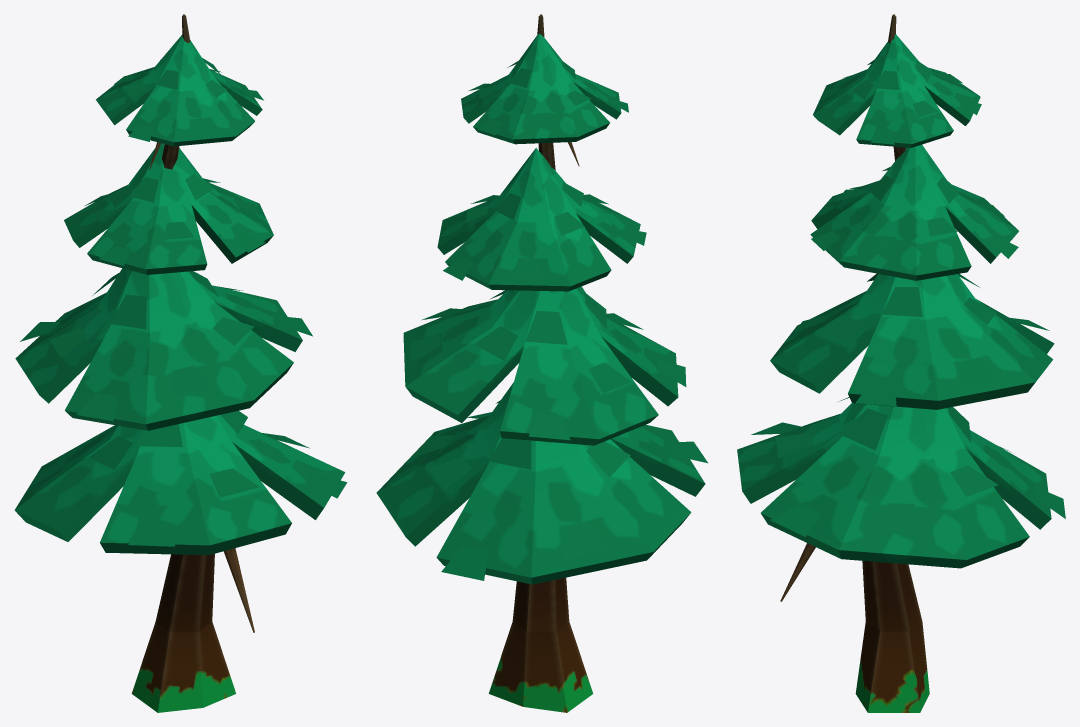
Rendered from NatureProps__PineTree.fbx.
3 views of the same model, side by side, from view 1: azimuth 30°, elevation 25°; view 2: azimuth 150°, elevation 25°; view 3: azimuth 270°, elevation 25° (orthographic).
Visible parts, largest first — view 1: TreeBase03; view 2: TreeBase03; view 3: TreeBase03.
Part boxes in pixels (bbox=[...]): TreeBase03: bbox=[14, 14, 347, 712]; TreeBase03: bbox=[376, 14, 707, 712]; TreeBase03: bbox=[737, 14, 1065, 712].
Bounding box in the file's own units: 328 × 776 × 340.
